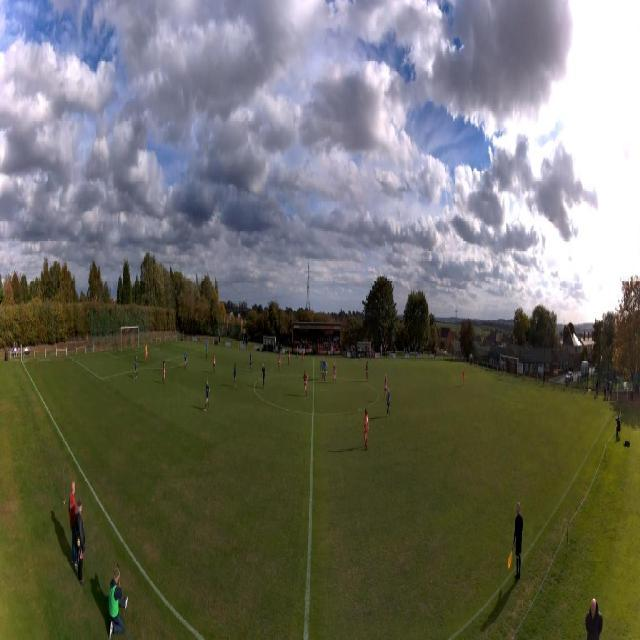ball: (146, 350, 147, 352)
player: (364, 409, 370, 450), (204, 378, 210, 412), (303, 370, 308, 397), (261, 363, 266, 389), (387, 388, 391, 417), (134, 356, 138, 380), (162, 360, 166, 384), (324, 359, 328, 380), (333, 363, 337, 384), (384, 374, 387, 401), (233, 363, 236, 389), (278, 352, 282, 371), (322, 357, 325, 379), (249, 352, 252, 373), (366, 361, 369, 382), (145, 343, 148, 363), (213, 354, 216, 374), (301, 348, 305, 363), (184, 350, 187, 369), (462, 367, 465, 386), (296, 345, 299, 359), (206, 341, 208, 359), (288, 349, 290, 366)
